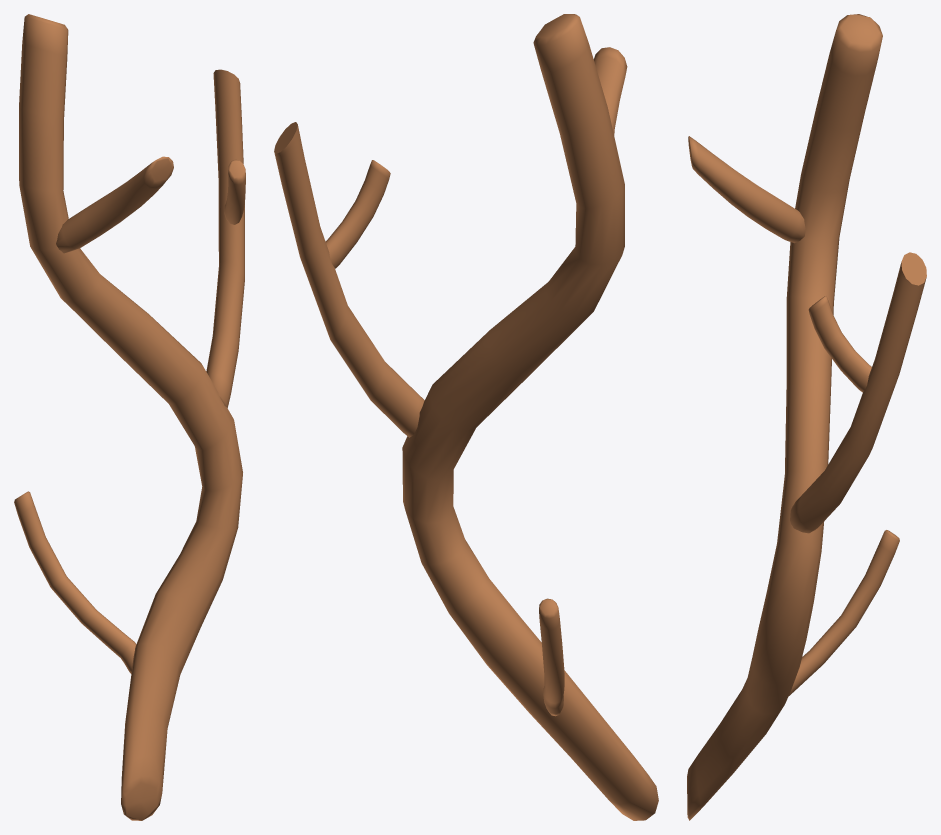
File: TreeDesert2.fbx
The picture shows the model from 3 angles, left to right: view 1: azimuth 30°, elevation 25°; view 2: azimuth 150°, elevation 25°; view 3: azimuth 270°, elevation 25°; orthographic projection. The views are drawn at different scales.
Parts seen in each view (by area): view 1: Cylinder.031; view 2: Cylinder.031; view 3: Cylinder.031.
Boxes of the visible parts, x1,y1,x2,y2 form: Cylinder.031: [14, 14, 245, 820]; Cylinder.031: [274, 14, 658, 820]; Cylinder.031: [687, 14, 926, 820].
Bounding box in the file's own units: 547 × 1539 × 423.
